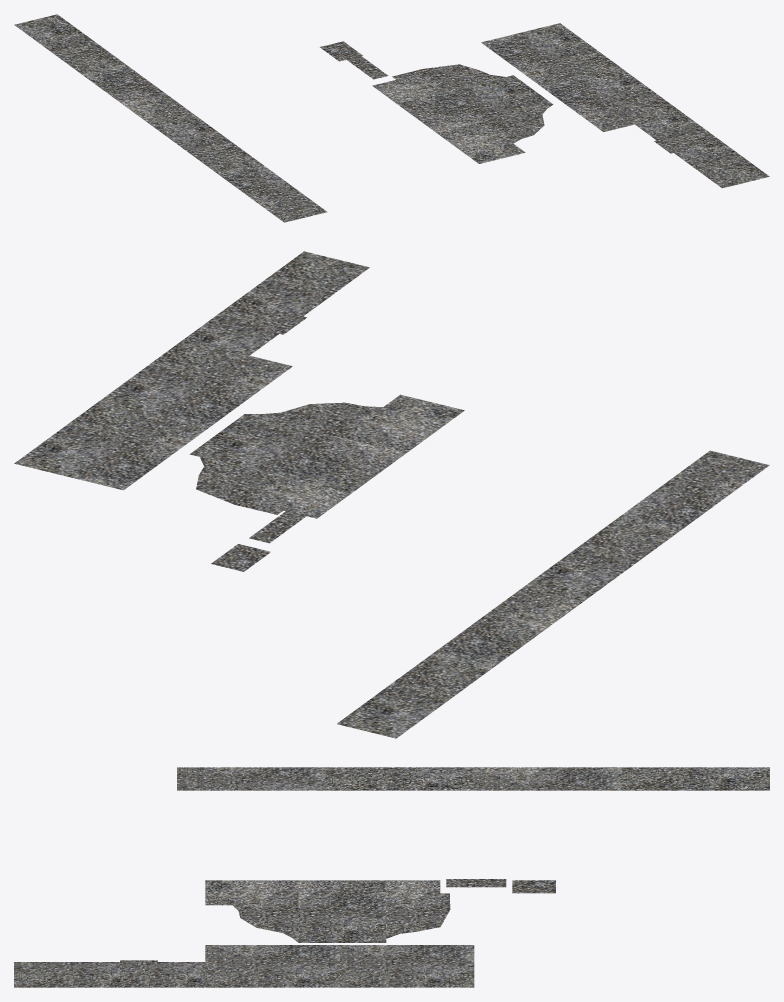
The model's file is Gravel.dae.
3 renders of one model, top to bottom at view 1: azimuth 30°, elevation 25°; view 2: azimuth 150°, elevation 25°; view 3: azimuth 270°, elevation 25°, orthographic. The views are drawn at different scales.
Parts seen in each view (by area): view 1: Gravel; view 2: Gravel; view 3: Gravel.
Part boxes in pixels (left/top/right/bottom): Gravel: left=14, top=14, right=769, bottom=222; Gravel: left=14, top=251, right=769, bottom=738; Gravel: left=14, top=767, right=769, bottom=987.
Bounding box in the file's own units: 27.5 × 39.9 × 0.2.
Materials: 1 (1 with a texture image).
